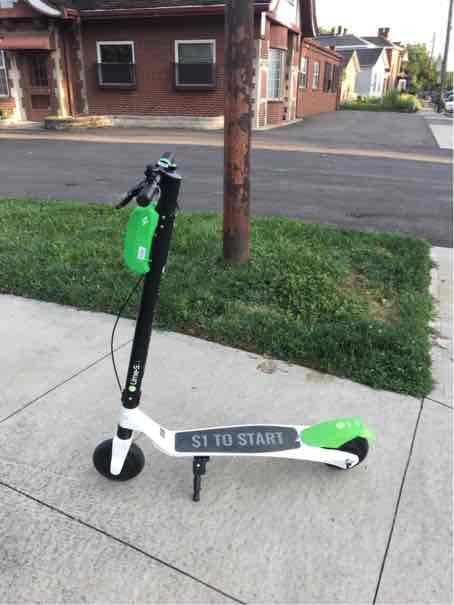scooter: (89, 147, 369, 502)
